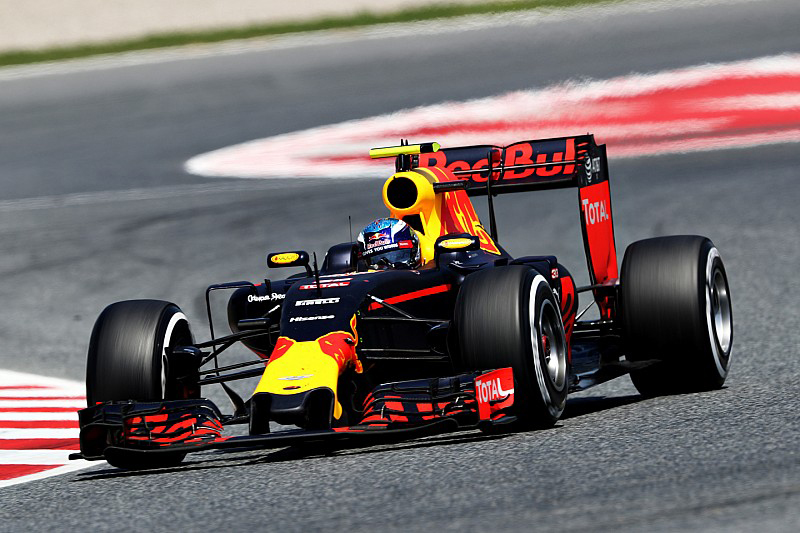F1 Car: (77, 128, 745, 473)
